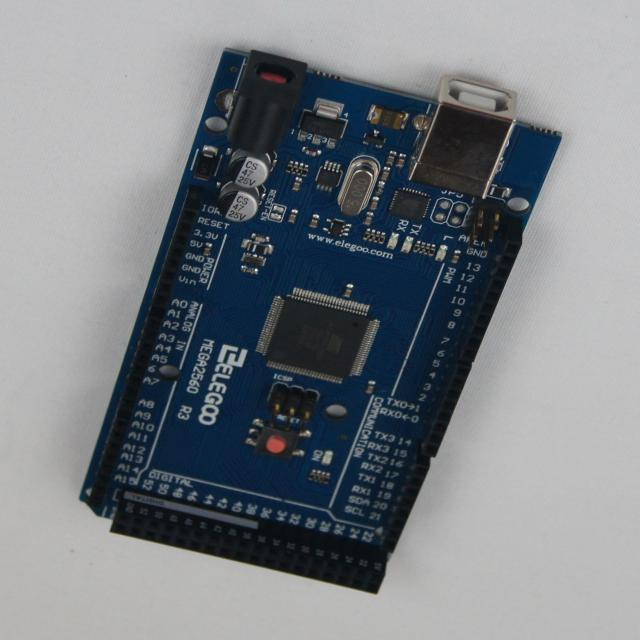Arduino Mega 2560 -Blue-: (81, 50, 562, 594)
